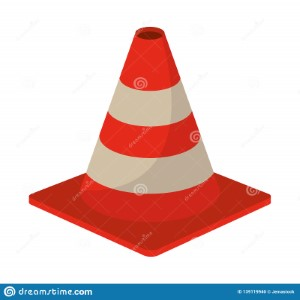traffic cone: (29, 27, 271, 257)
